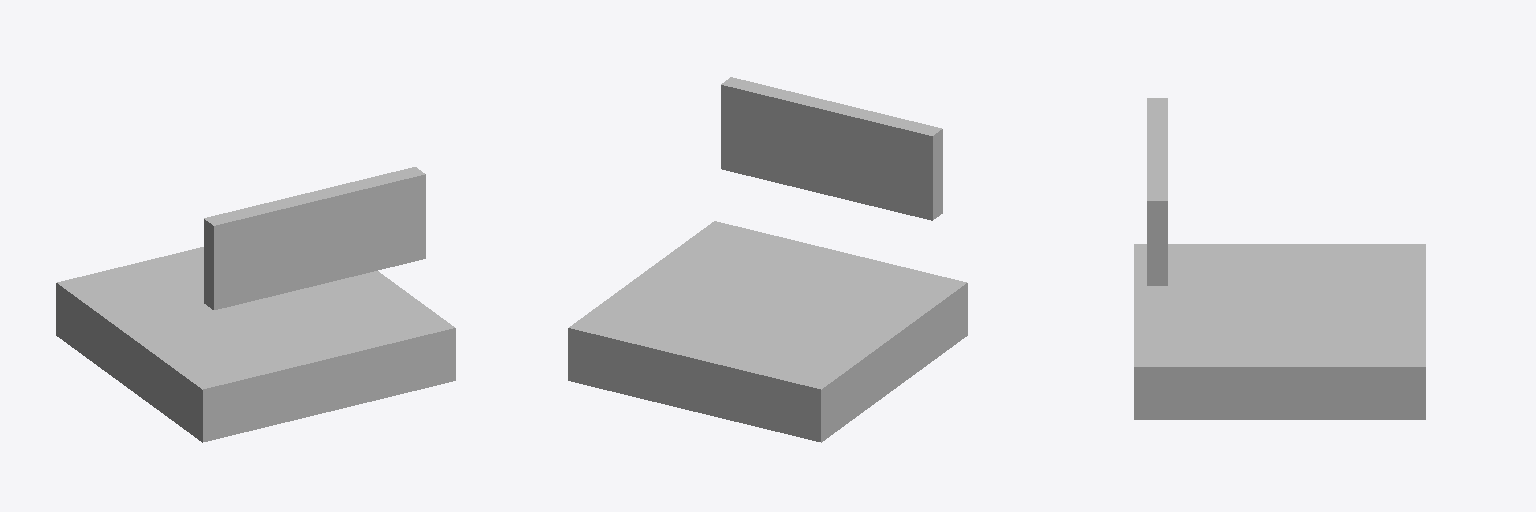
Rendered from chair_back_2.obj.
3 views of the same model, side by side, from view 1: azimuth 30°, elevation 25°; view 2: azimuth 150°, elevation 25°; view 3: azimuth 270°, elevation 25° (orthographic).
Size of the model in its own units: 0.4659 by 0.3699 by 0.466.